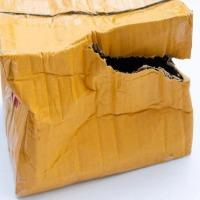damaged package: (82, 42, 188, 84)
undamaged: (0, 0, 195, 198)
